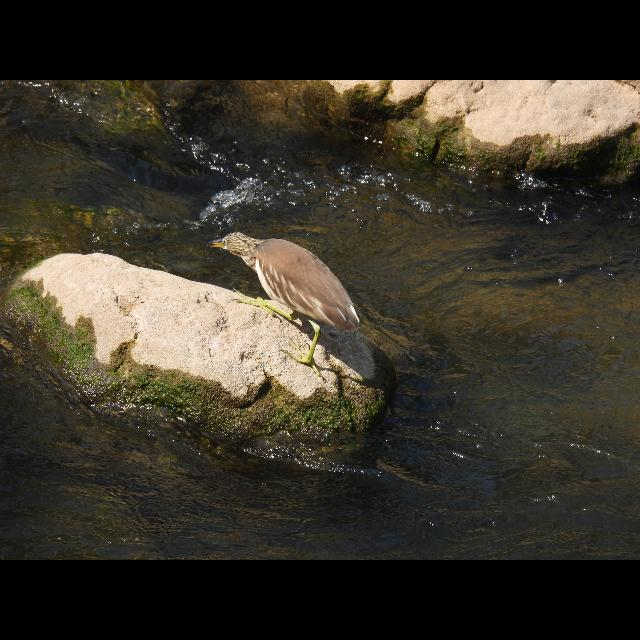heron: (205, 226, 358, 364)
